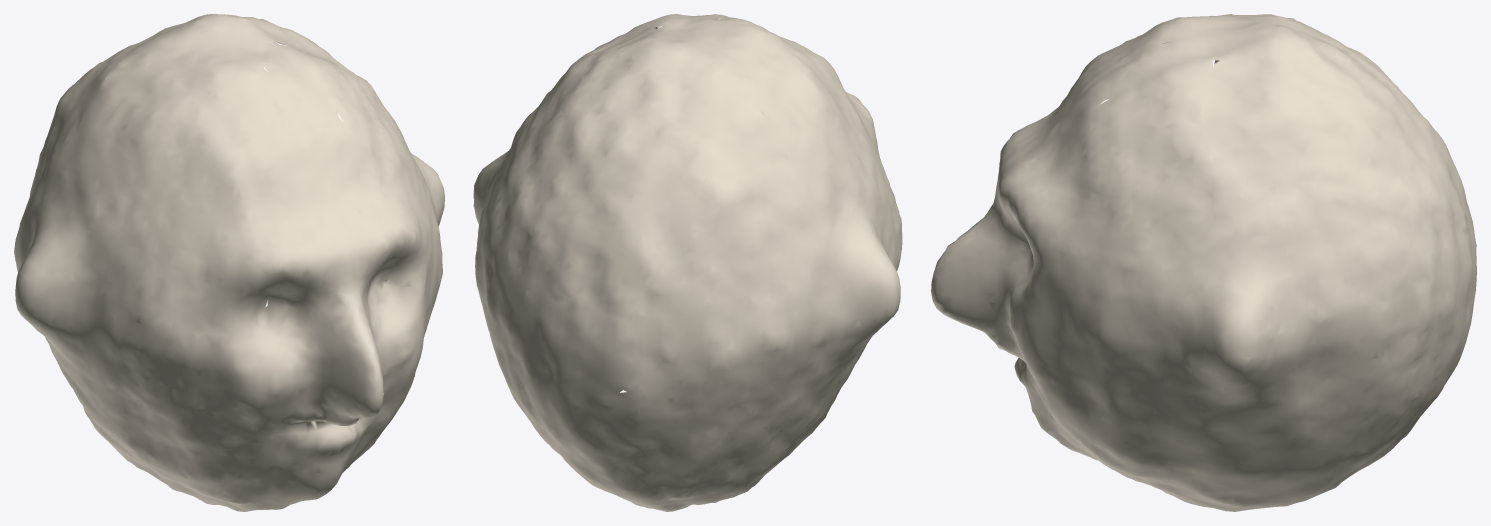
The model's file is SM_HelenKellerBust_LOD0.glb.
3 renders of one model, left to right at view 1: azimuth 30°, elevation 25°; view 2: azimuth 150°, elevation 25°; view 3: azimuth 270°, elevation 25°, orthographic. The views are drawn at different scales.
Parts seen in each view (by area): view 1: SM_HelenKellerBust_LOD0; view 2: SM_HelenKellerBust_LOD0; view 3: SM_HelenKellerBust_LOD0.
Boxes of the visible parts, bbox=[...] form: SM_HelenKellerBust_LOD0: bbox=[14, 14, 444, 511]; SM_HelenKellerBust_LOD0: bbox=[473, 14, 902, 511]; SM_HelenKellerBust_LOD0: bbox=[931, 14, 1476, 511].
Size of the model in its own units: 0.5083 by 0.5289 by 0.5567.
